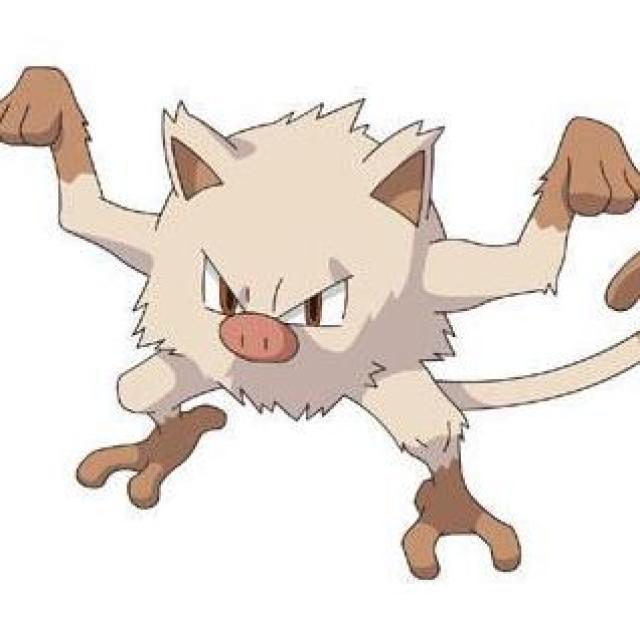Mankey: (100, 88, 494, 499)
